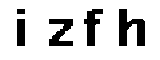f: (82, 3, 105, 49)
h: (116, 4, 147, 52)
i: (13, 5, 32, 52)
z: (42, 15, 76, 49)
